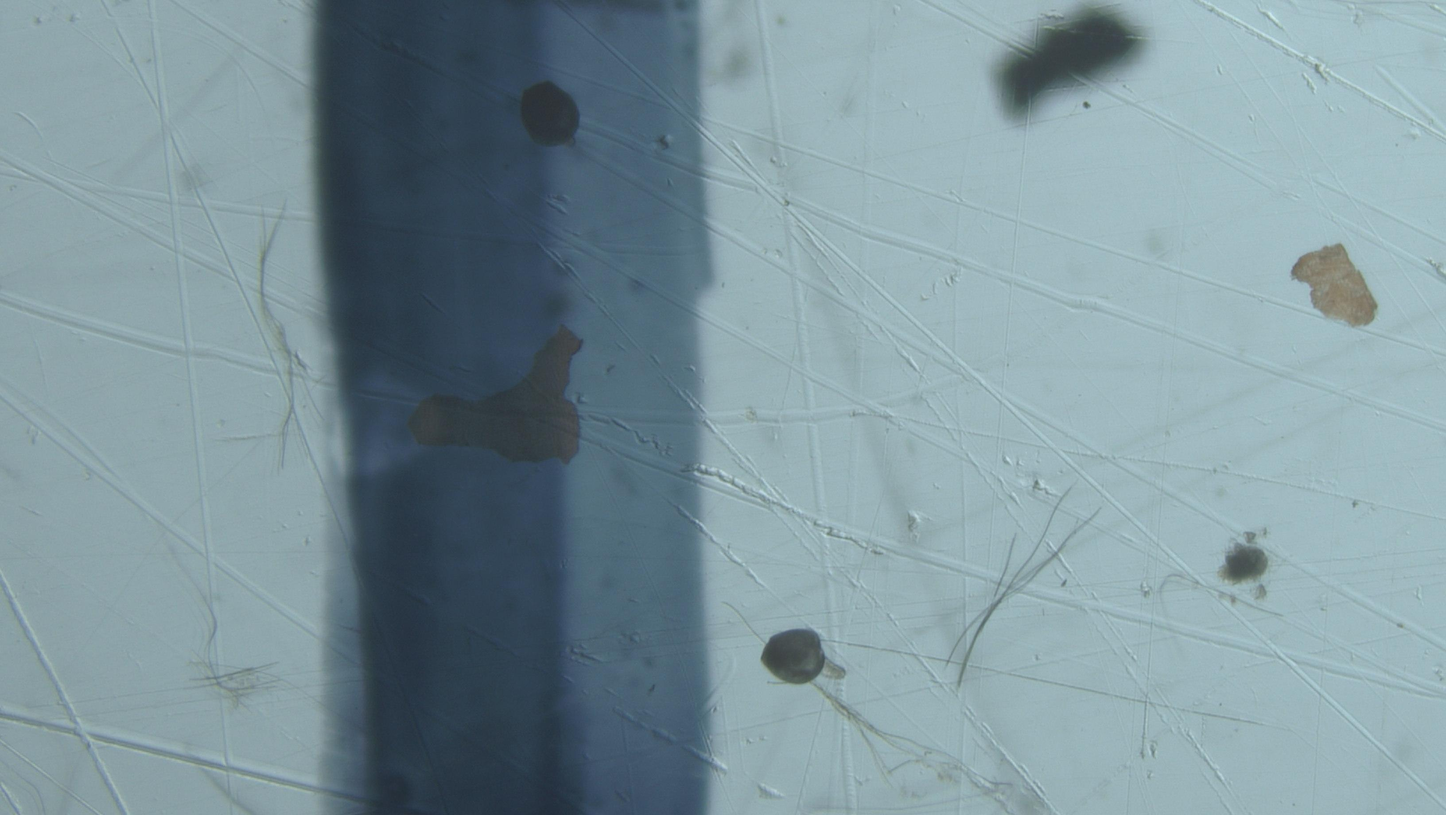live: (520, 81, 580, 147), (761, 629, 827, 685)
